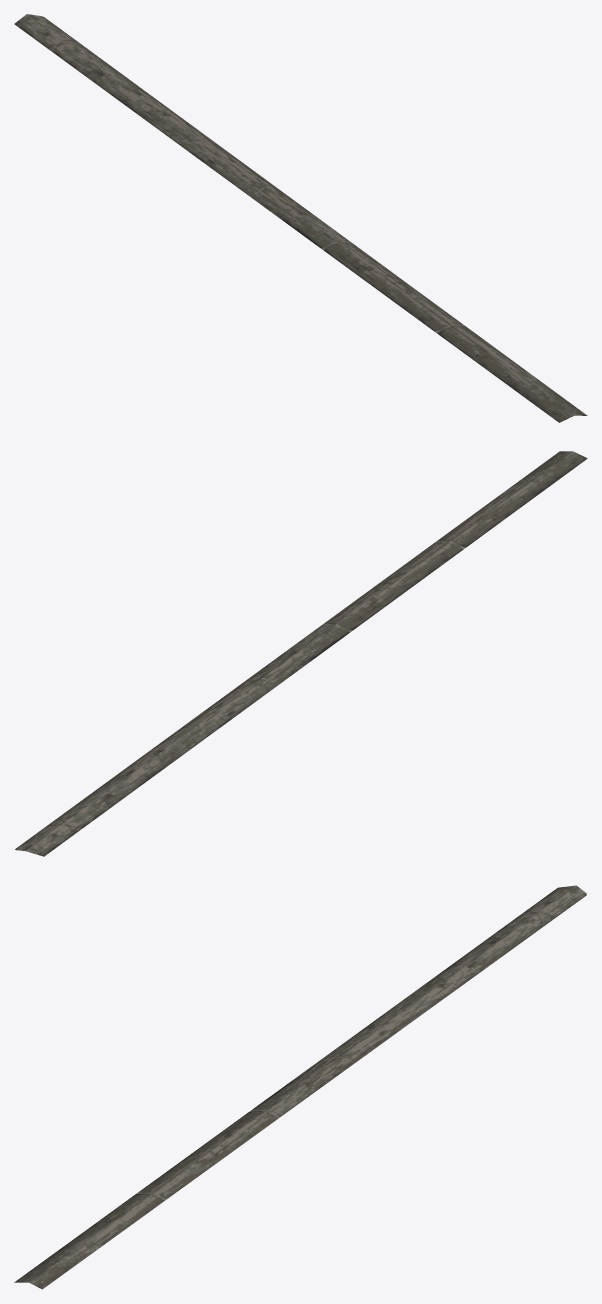
File: SM_EC_WoodenPole_Large_Card_00.fbx
3 renders of one model, top to bottom at view 1: azimuth 30°, elevation 25°; view 2: azimuth 150°, elevation 25°; view 3: azimuth 330°, elevation 25°, orthographic.
Parts seen in each view (by area): view 1: SM_EC_WoodenPole_Large_Card_00; view 2: SM_EC_WoodenPole_Large_Card_00; view 3: SM_EC_WoodenPole_Large_Card_00.
Boxes of the visible parts, bbox=[...] form: SM_EC_WoodenPole_Large_Card_00: bbox=[14, 14, 587, 422]; SM_EC_WoodenPole_Large_Card_00: bbox=[15, 451, 587, 856]; SM_EC_WoodenPole_Large_Card_00: bbox=[14, 885, 586, 1289].
Bounding box in the file's own units: 0.2585 × 7.85 × 0.0416.
